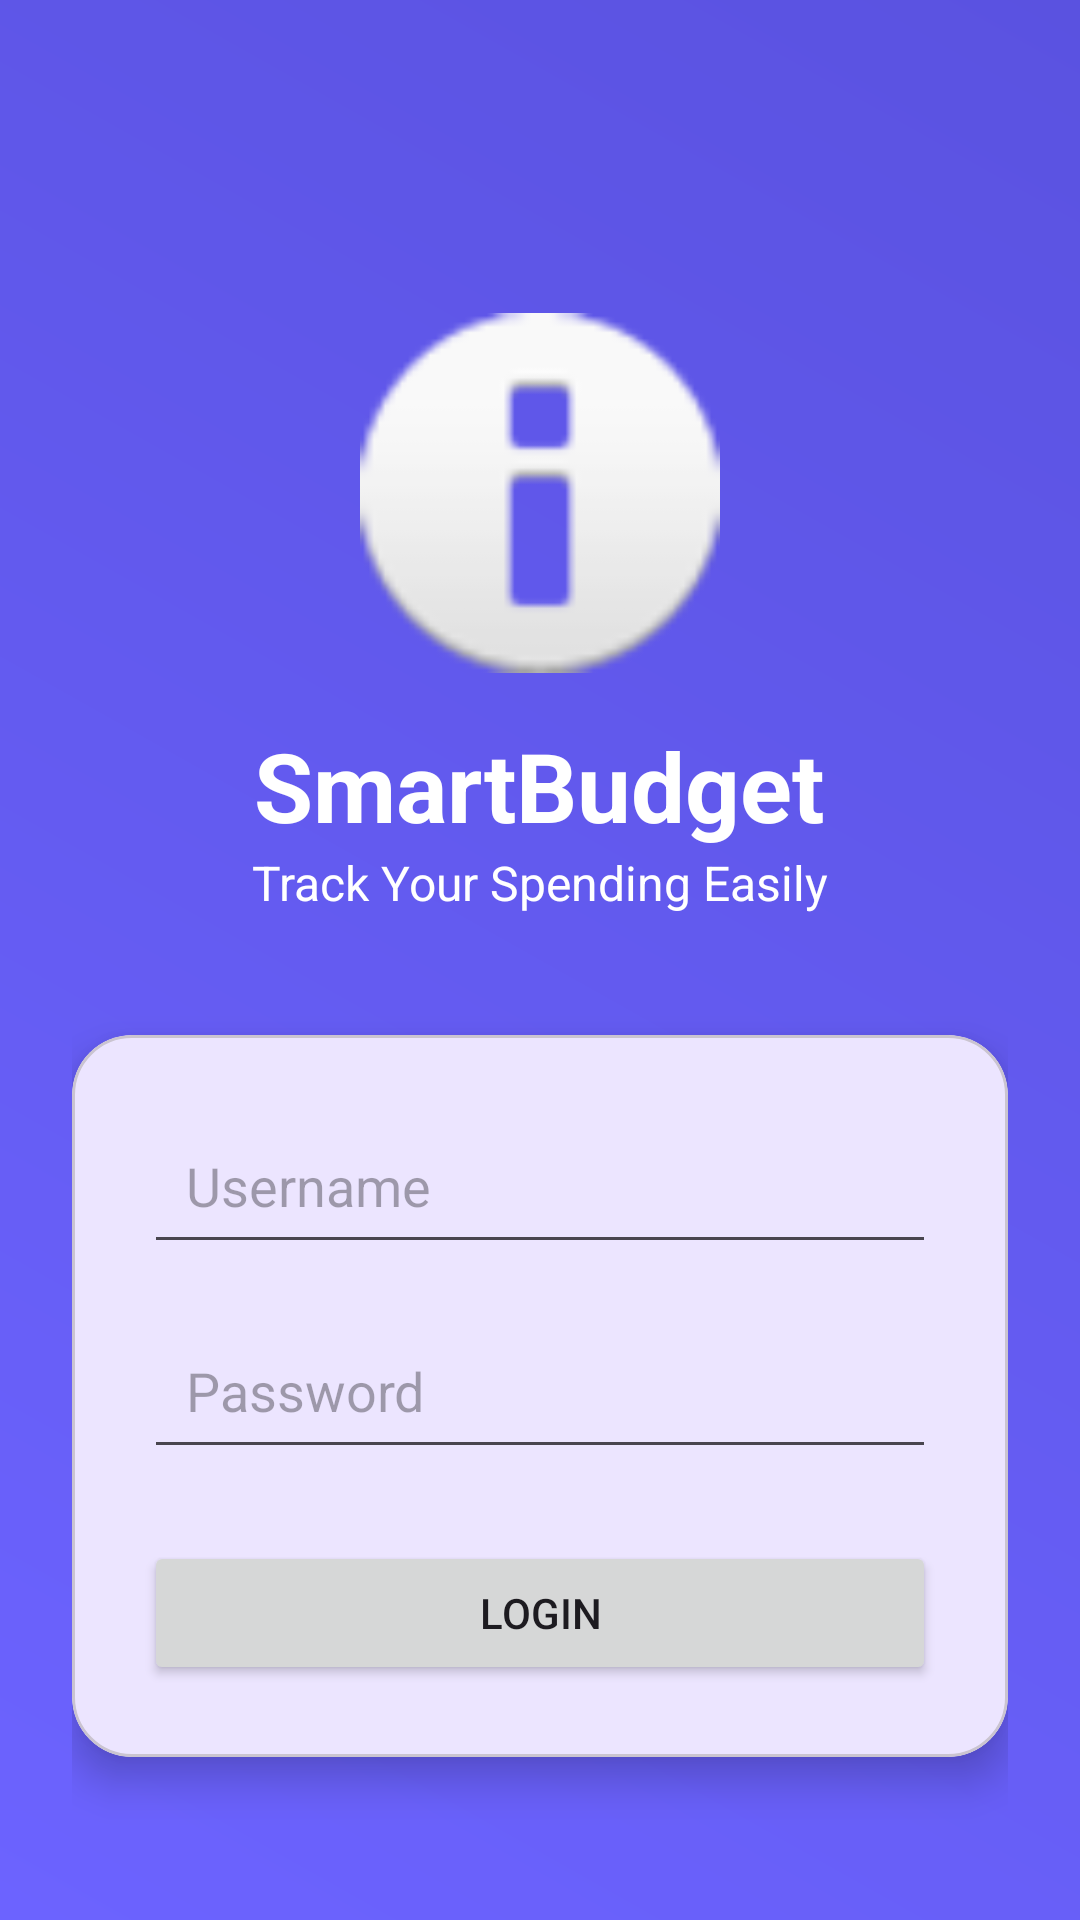

Where to tap for icons on this 1080x1920 app screen, as [x,y]:
info: [540,493]
